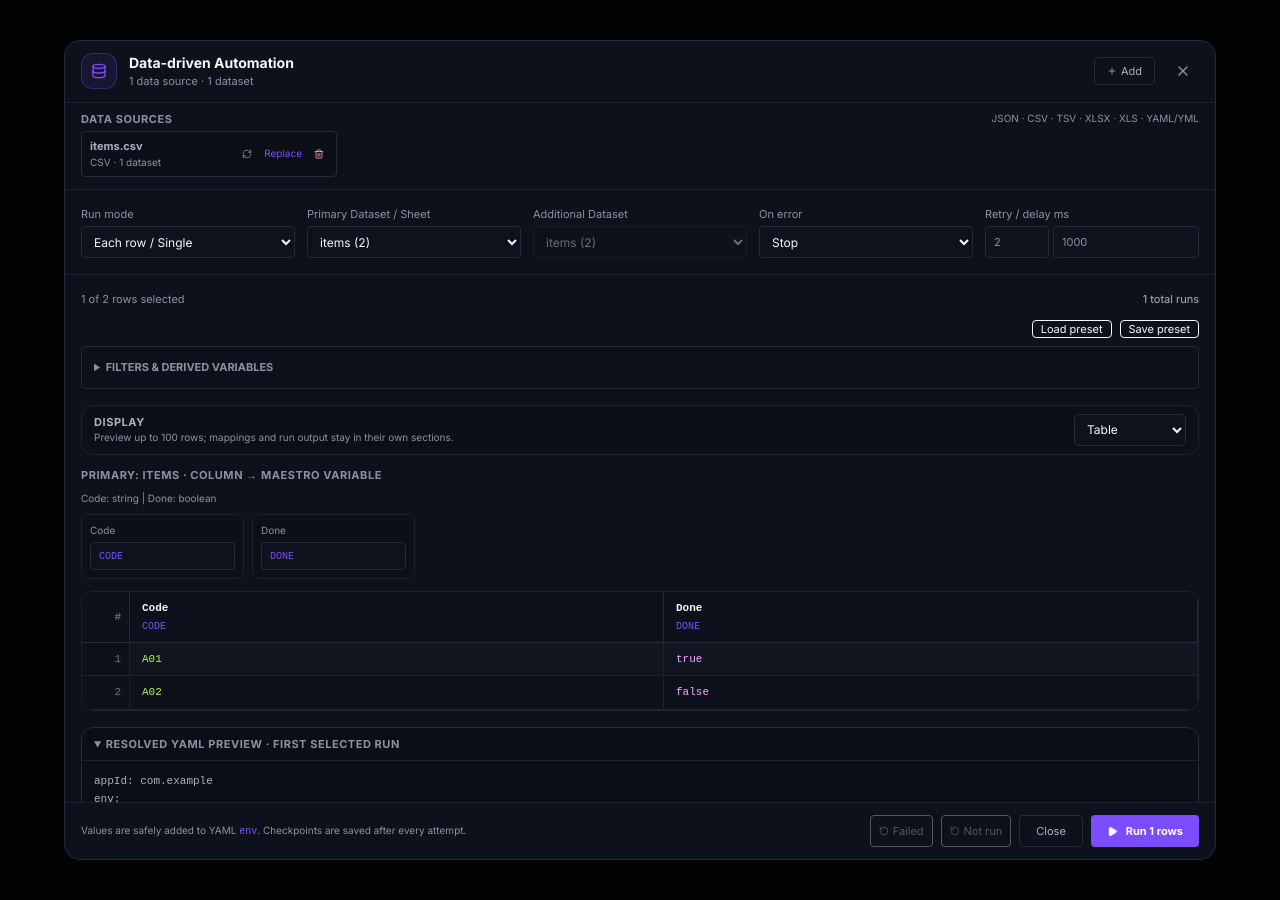
it: MaestroDataSourceDialog › rejects duplicate variable mappings
Replace the text in the field named "Variable for Primary Done" with "CODE" at x=334, y=556, box [261,542,406,570]
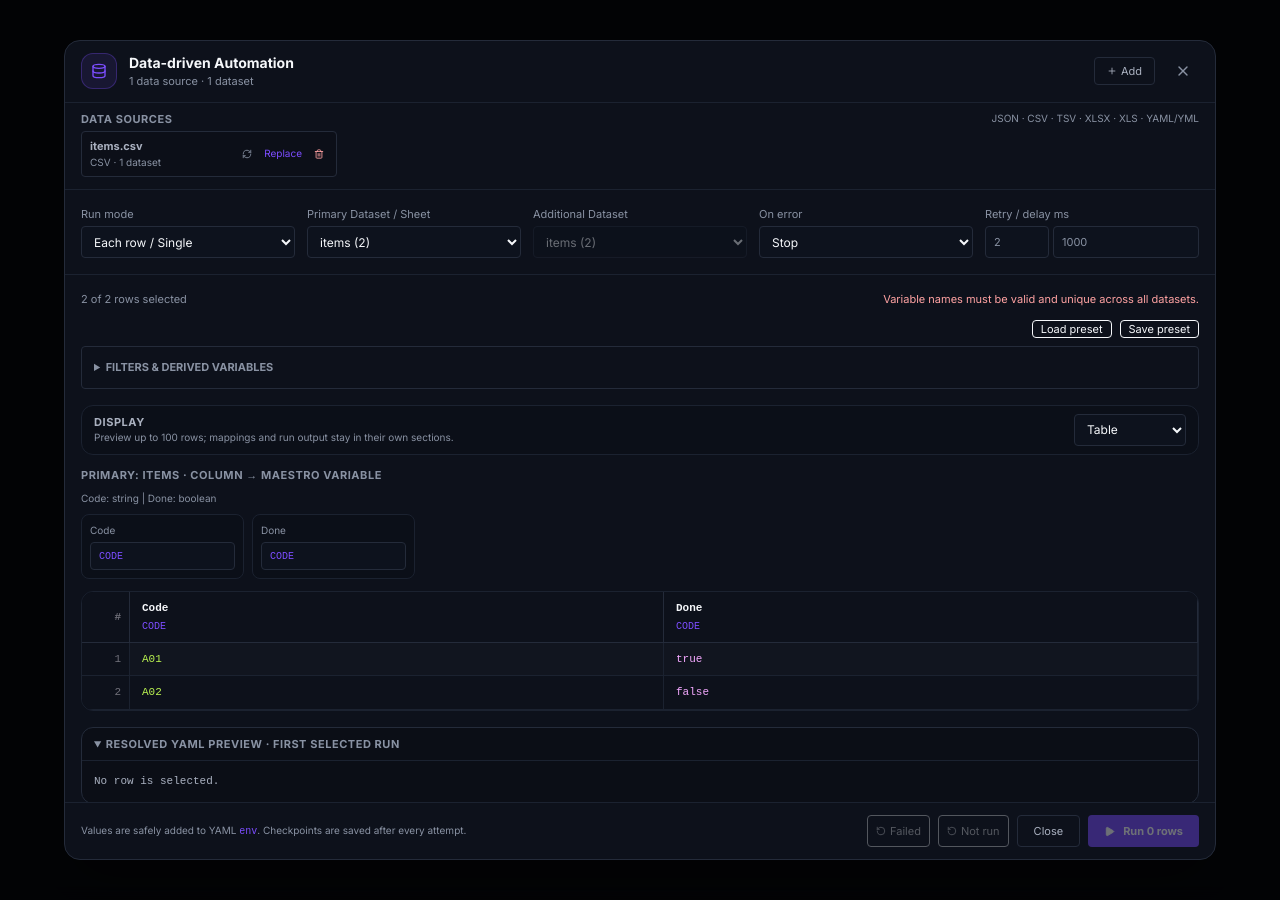
Result: the text "Variable names must be valid and unique across all datasets." is shown at [883,291,1199,308]
Result: the button "Run 0 rows" is disabled at [1088,815,1199,847]
